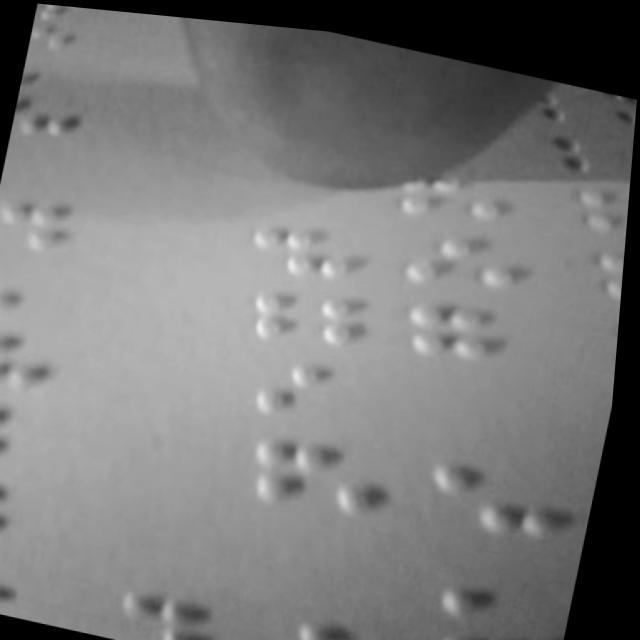braiile: (243, 413, 408, 525), (421, 441, 585, 545), (249, 335, 405, 437), (405, 276, 557, 374), (402, 208, 551, 301), (251, 266, 389, 352), (242, 200, 372, 284), (0, 315, 89, 403), (0, 246, 90, 333), (0, 390, 76, 475), (0, 469, 67, 551), (12, 87, 97, 148)
